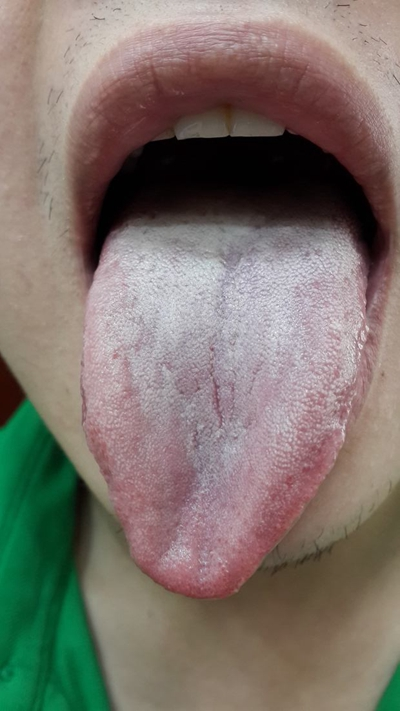baitaishe: (80, 211, 368, 600)
